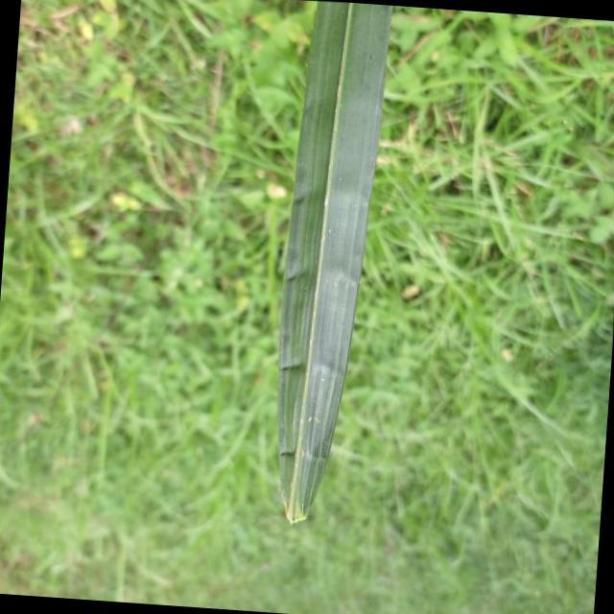Boron: (274, 0, 395, 524)
